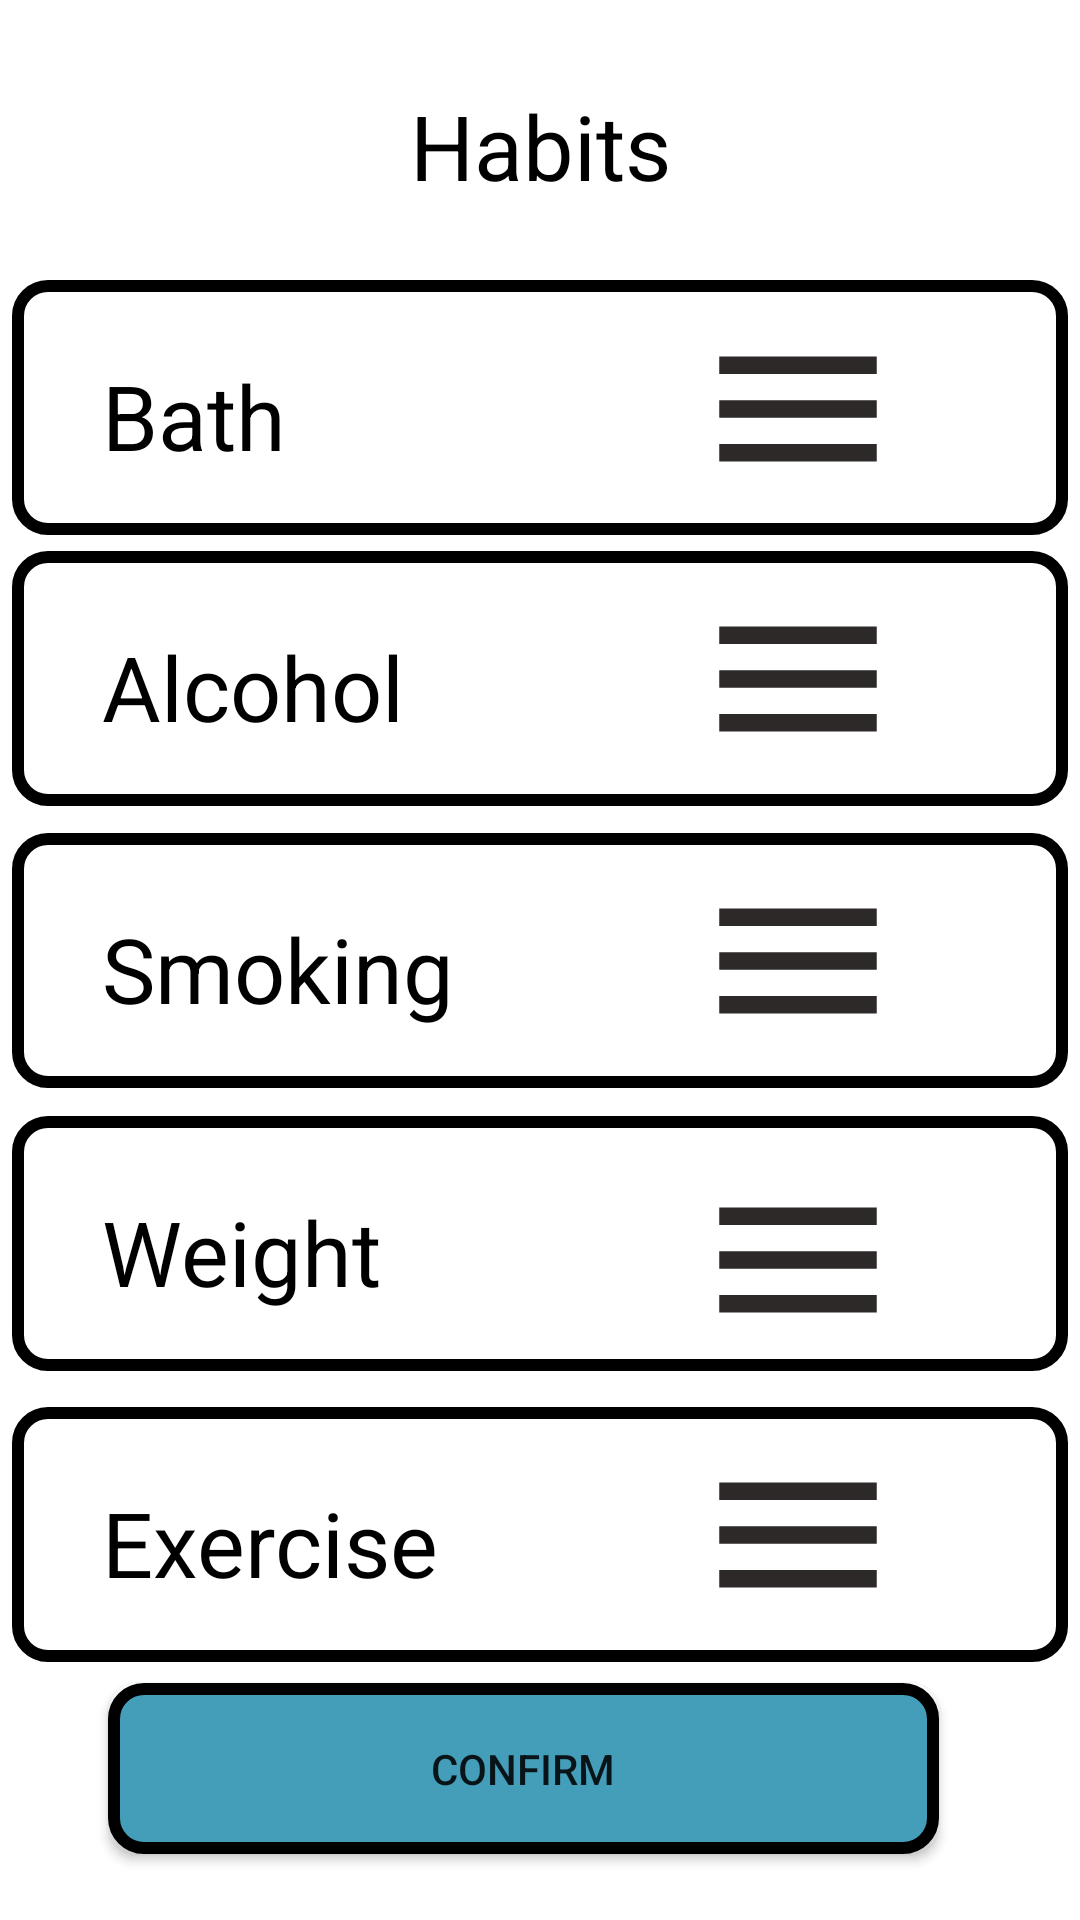

Named icons in this screenshot (1080w x 1920h) and their centers, (x=x, y=y):
menu: (x=798, y=409), (x=798, y=679), (x=798, y=961), (x=798, y=1260), (x=798, y=1535)
